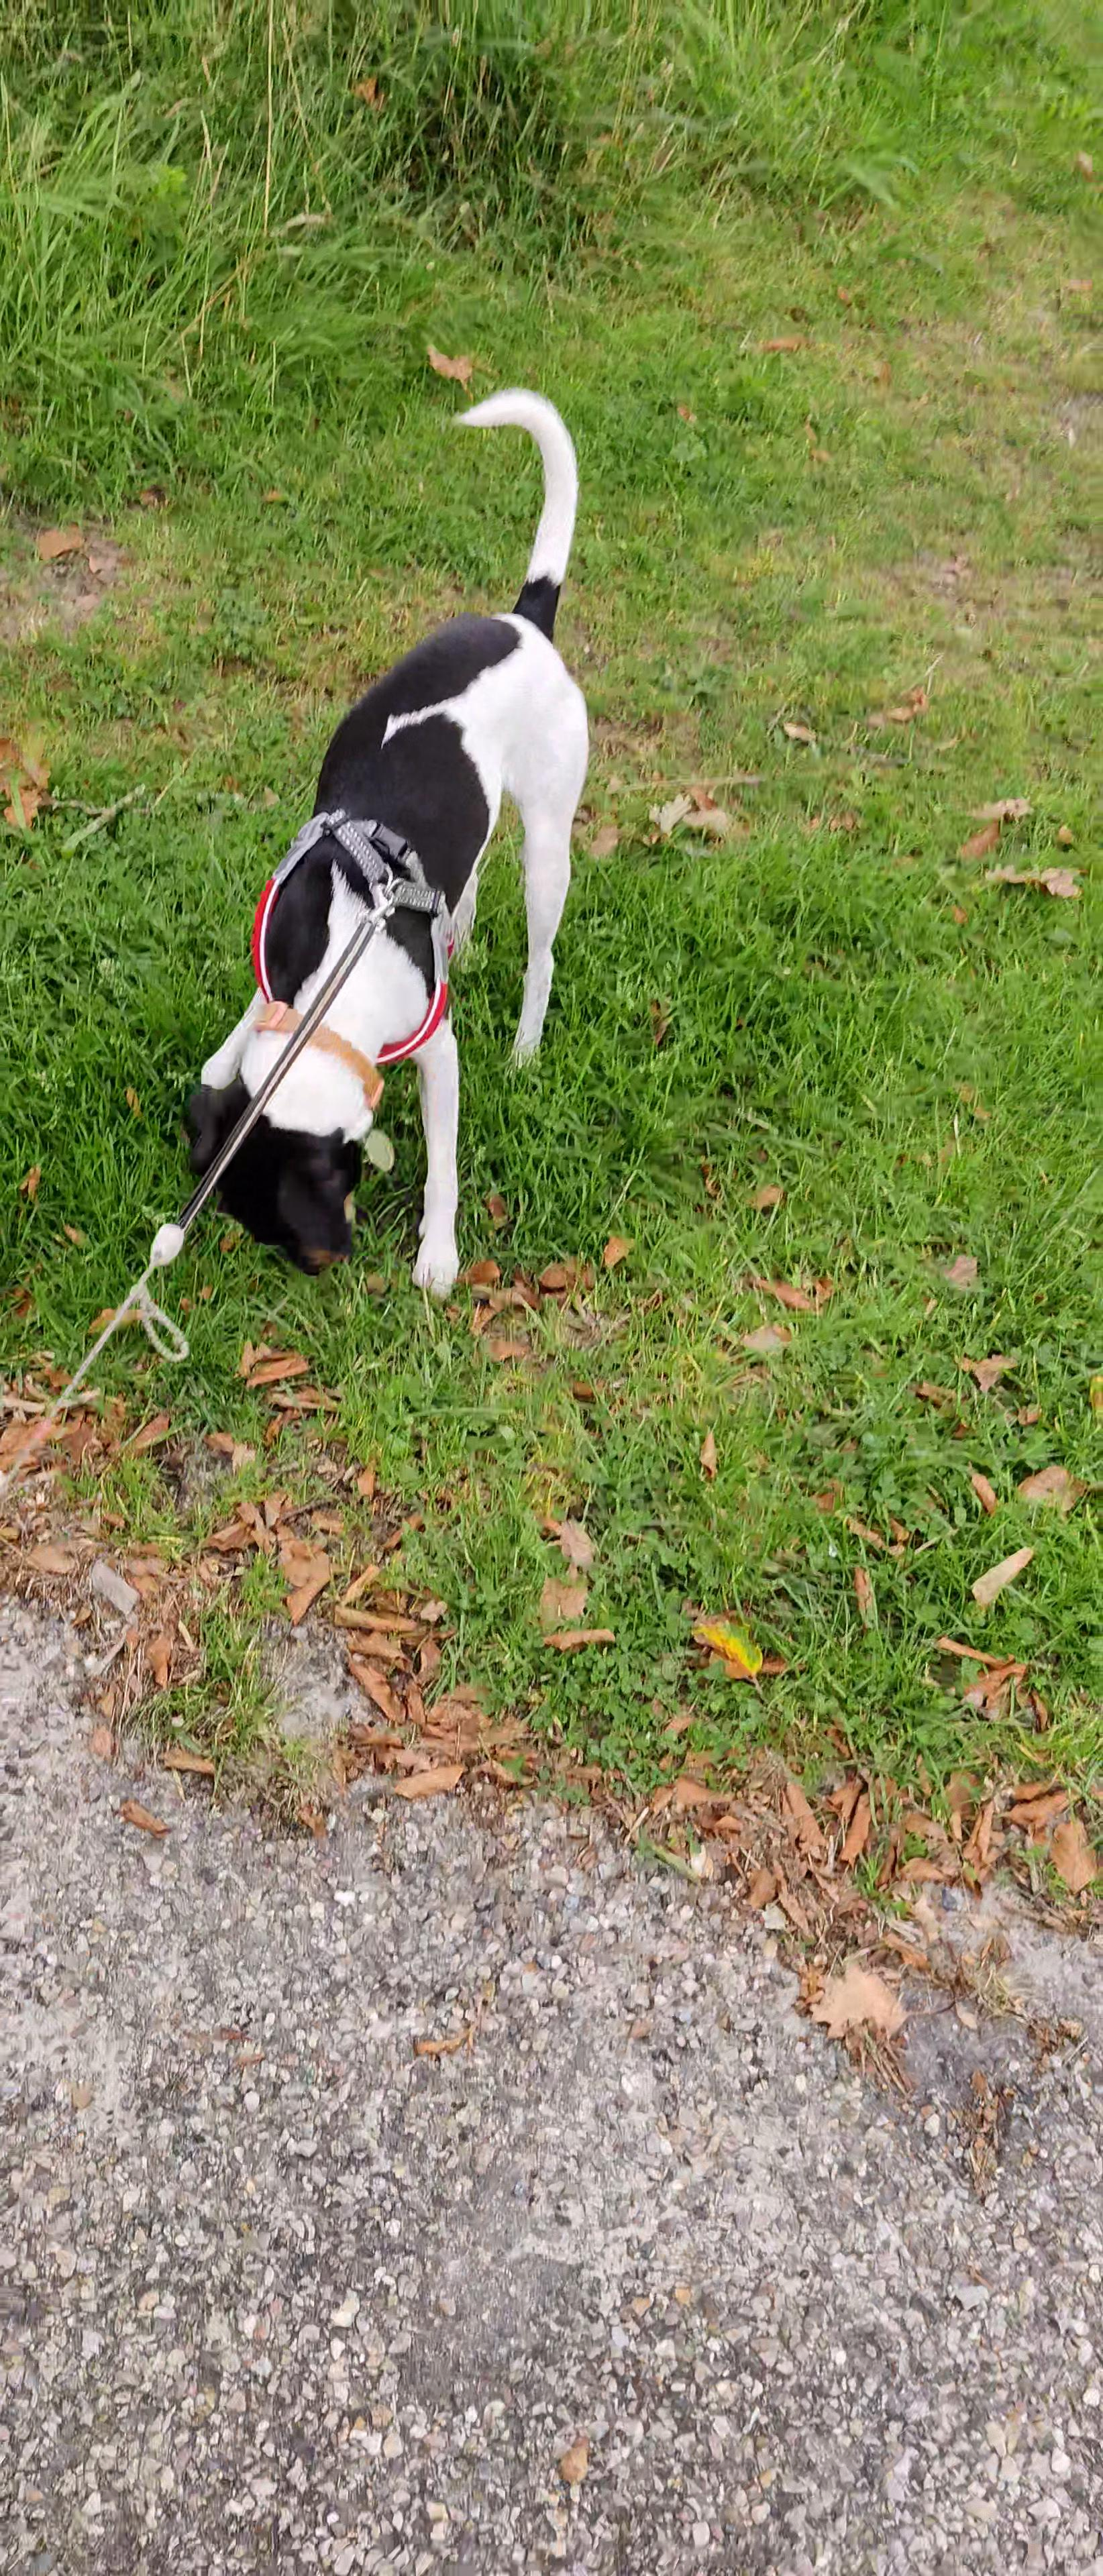Dog: (158, 373, 600, 1309)
